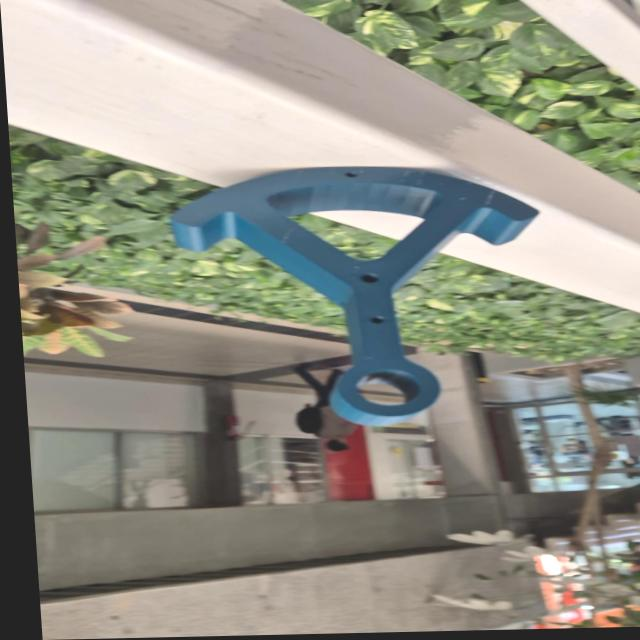haptic: (166, 160, 556, 433)
